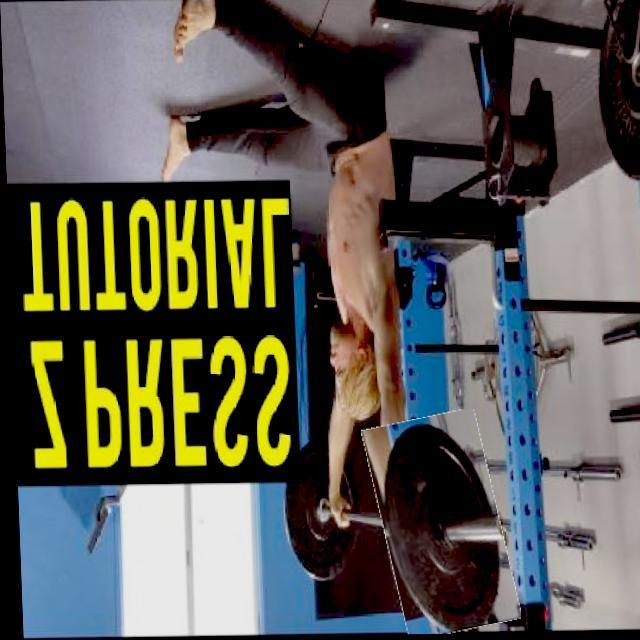barbell: (367, 415, 508, 637)
